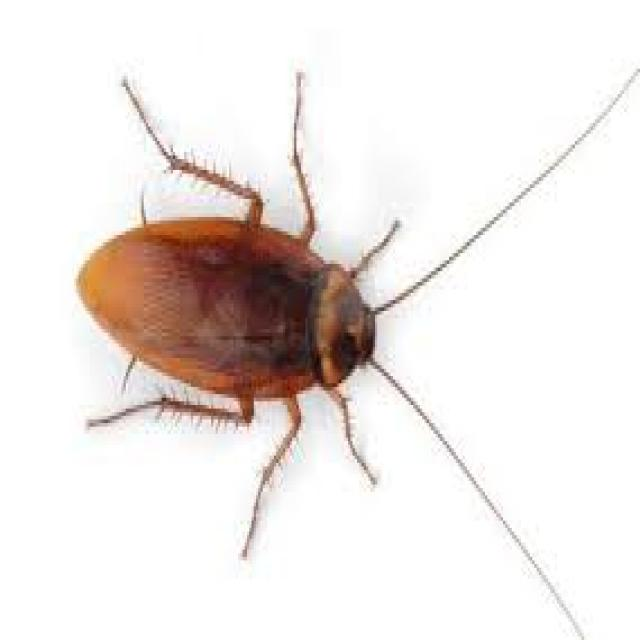Cockroach: (67, 58, 640, 640)
